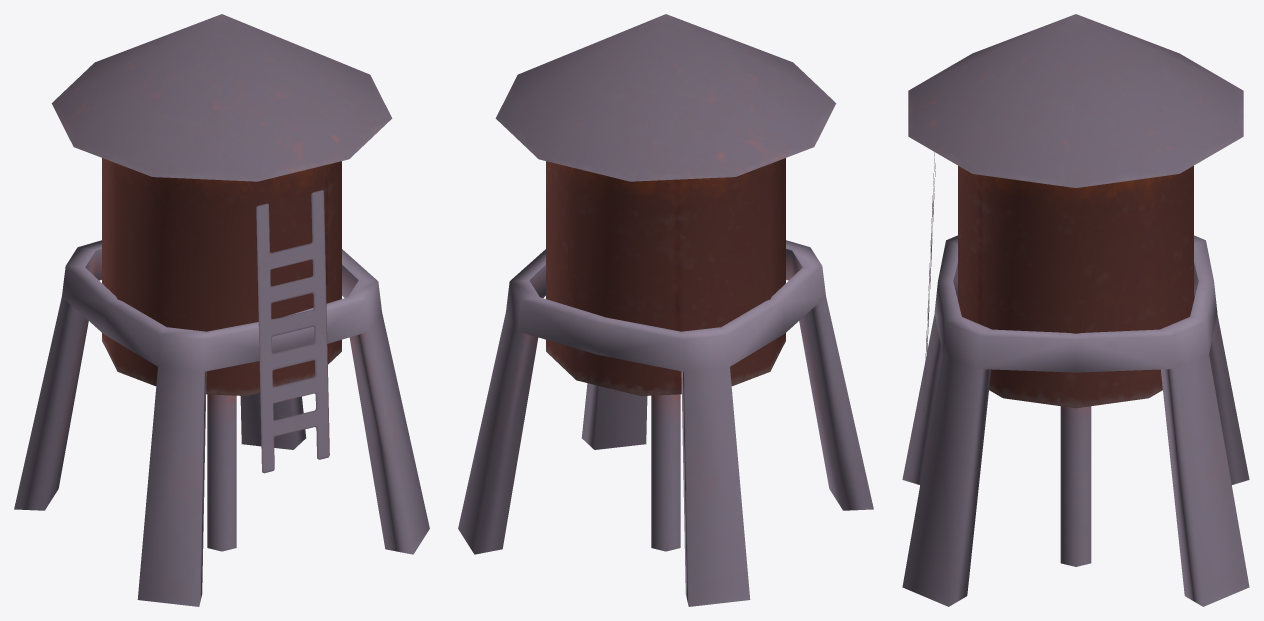
File: Water_Tank.fbx
3 renders of one model, left to right at view 1: azimuth 30°, elevation 25°; view 2: azimuth 150°, elevation 25°; view 3: azimuth 270°, elevation 25°, orthographic. The views are drawn at different scales.
Parts seen in each view (by area): view 1: Water_Tank; view 2: Water_Tank; view 3: Water_Tank.
Part boxes in pixels (x1,y1,x2,y2): Water_Tank: (14, 14, 429, 606); Water_Tank: (458, 14, 873, 606); Water_Tank: (902, 14, 1249, 606).
Size of what is drawn, in the model's own units: 99.72 by 170 by 98.21.
